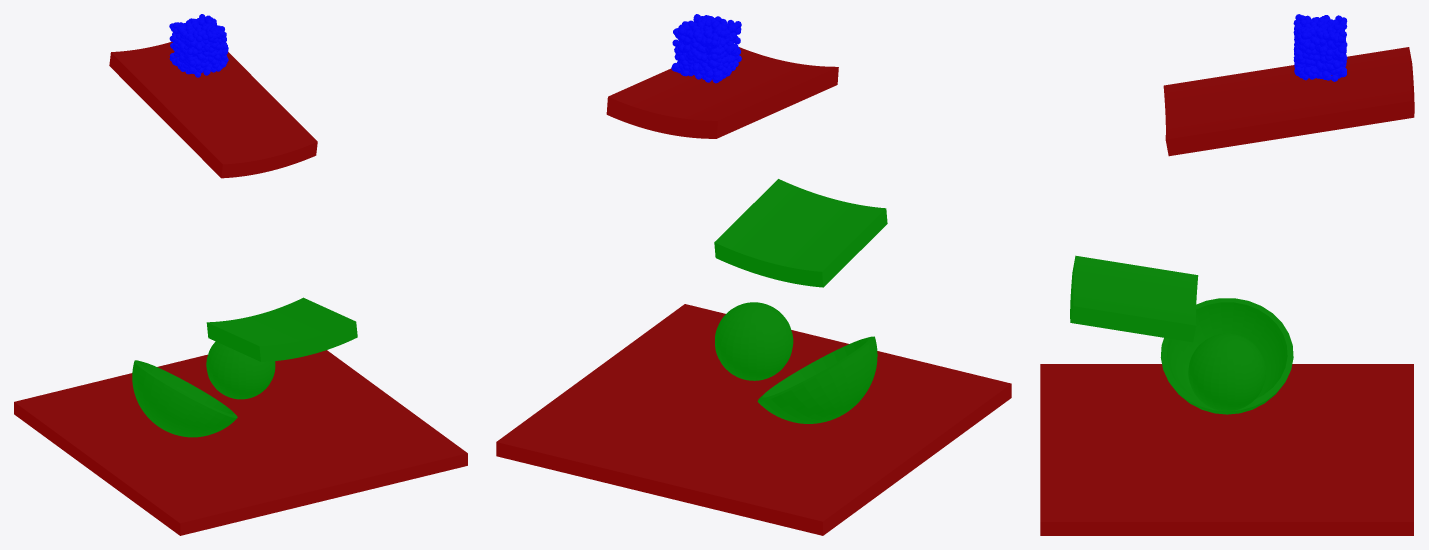
File: waterfall2.glb
The picture shows the model from 3 angles, left to right: view 1: azimuth 30°, elevation 25°; view 2: azimuth 150°, elevation 25°; view 3: azimuth 270°, elevation 25°; orthographic projection. The views are drawn at different scales.
Bounding box in the file's own units: 12 × 15.37 × 12.02.
